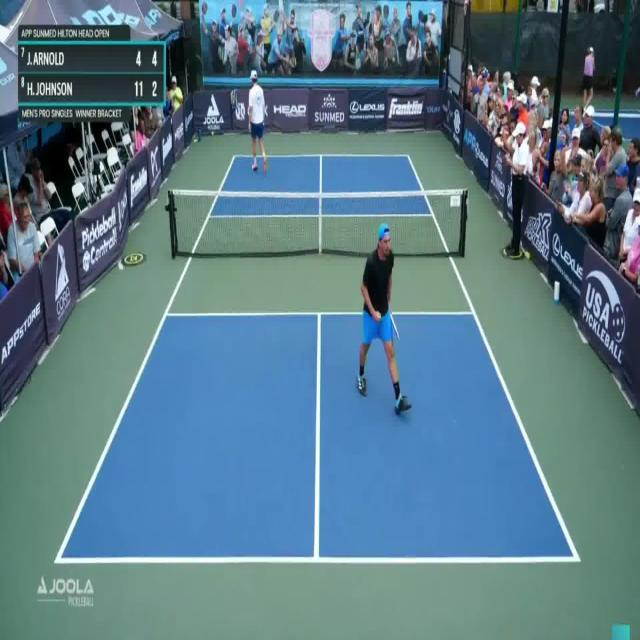ball: (212, 130, 214, 136)
